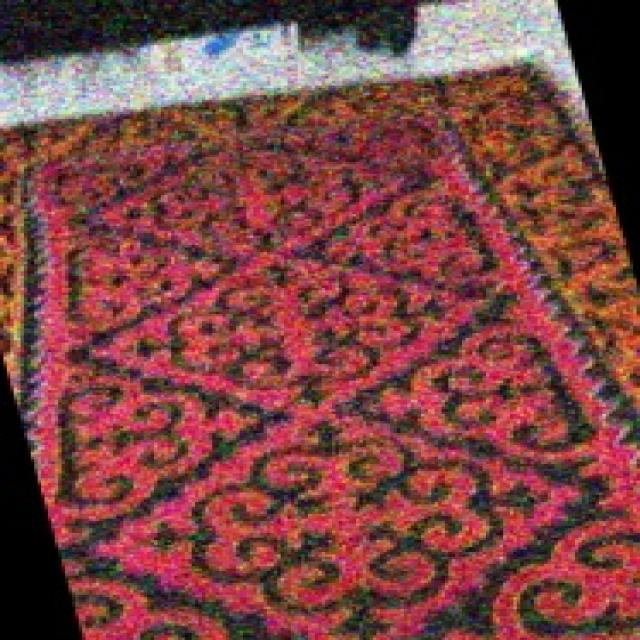Unity: (126, 417, 565, 638), (122, 255, 478, 415)
